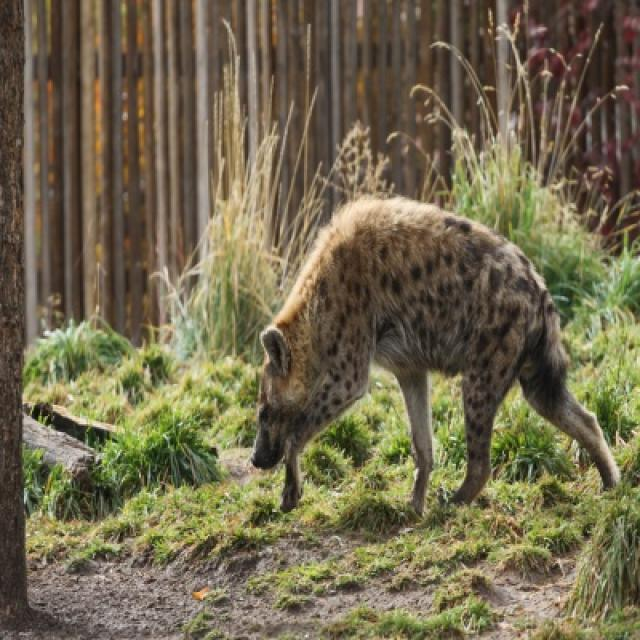hyena: (250, 197, 622, 518)
